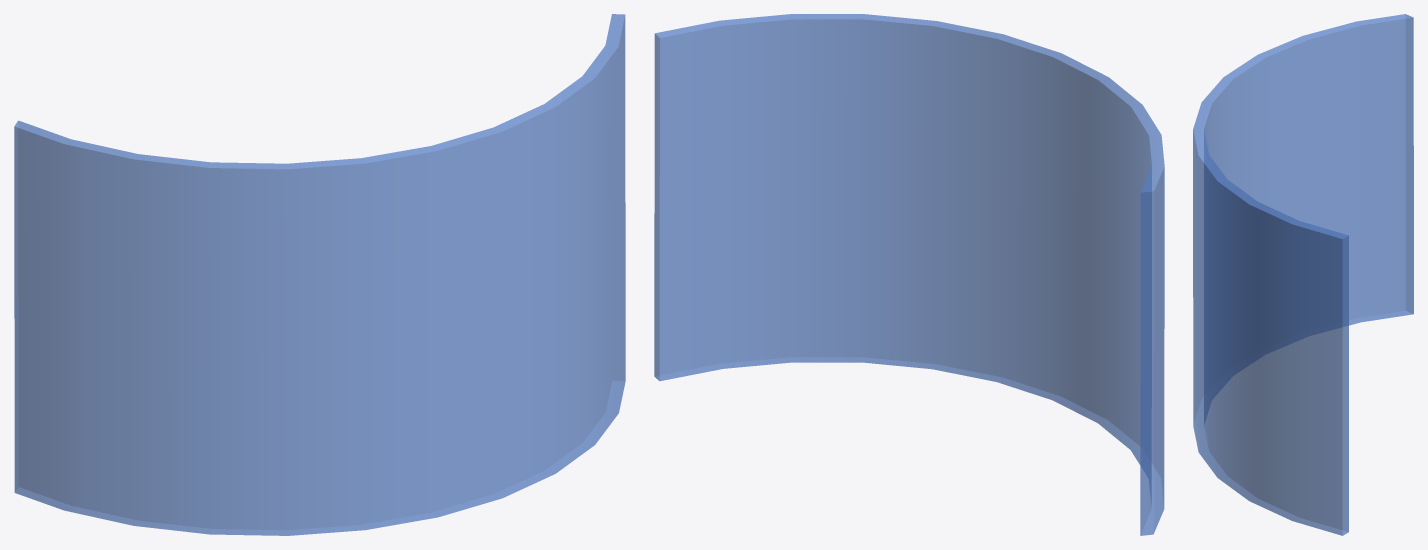
The model's file is faceshield.obj.
3 views of the same model, side by side, from view 1: azimuth 30°, elevation 25°; view 2: azimuth 150°, elevation 25°; view 3: azimuth 270°, elevation 25° (orthographic). The views are drawn at different scales.
Parts seen in each view (by area): view 1: Mesh1 Group1 Model; view 2: Mesh1 Group1 Model; view 3: Mesh1 Group1 Model.
Boxes of the visible parts, x1,y1,x2,y2 form: Mesh1 Group1 Model: (14,14,625,535); Mesh1 Group1 Model: (654,14,1164,535); Mesh1 Group1 Model: (1193,14,1413,535).
Bounding box in the file's own units: 9.8 × 6.01 × 4.05.
